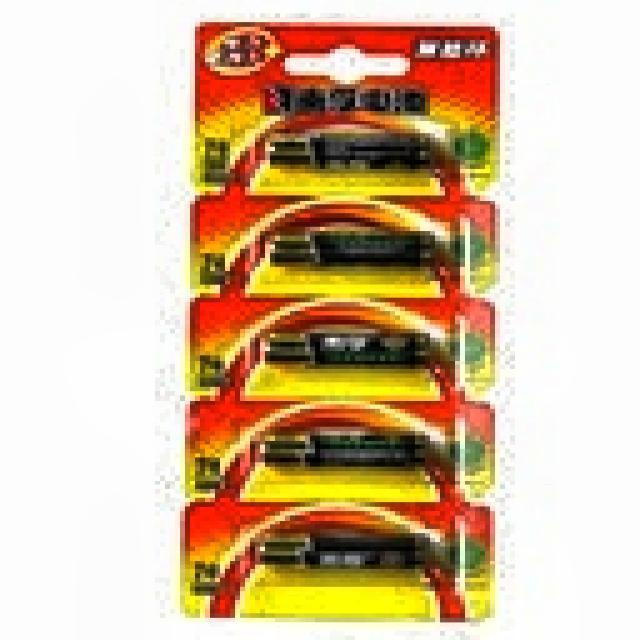battery: (184, 23, 497, 620)
